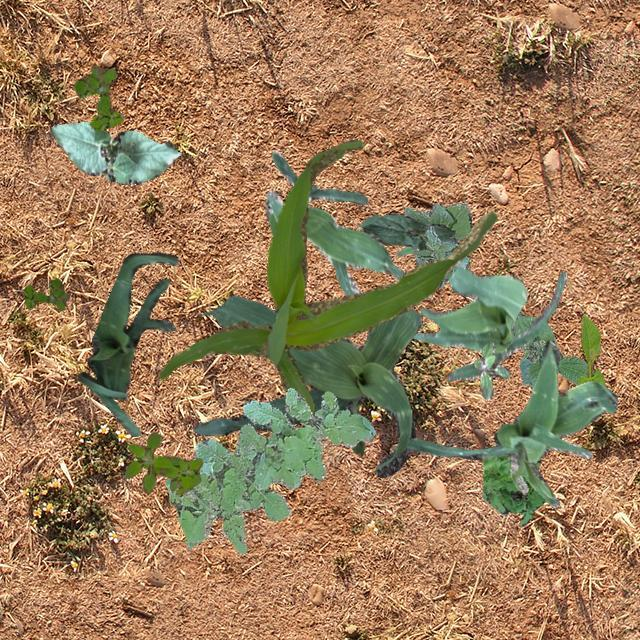crop: (158, 138, 496, 412), (194, 294, 422, 476), (406, 338, 616, 506), (264, 150, 404, 294), (76, 252, 178, 436), (412, 266, 566, 380), (50, 120, 180, 183), (512, 312, 586, 391), (396, 202, 470, 266), (358, 212, 453, 250), (577, 314, 603, 384)
weed: (164, 387, 374, 552), (124, 432, 202, 494), (482, 454, 544, 526), (72, 64, 122, 130), (412, 225, 456, 288), (472, 340, 508, 400), (23, 278, 68, 310)
